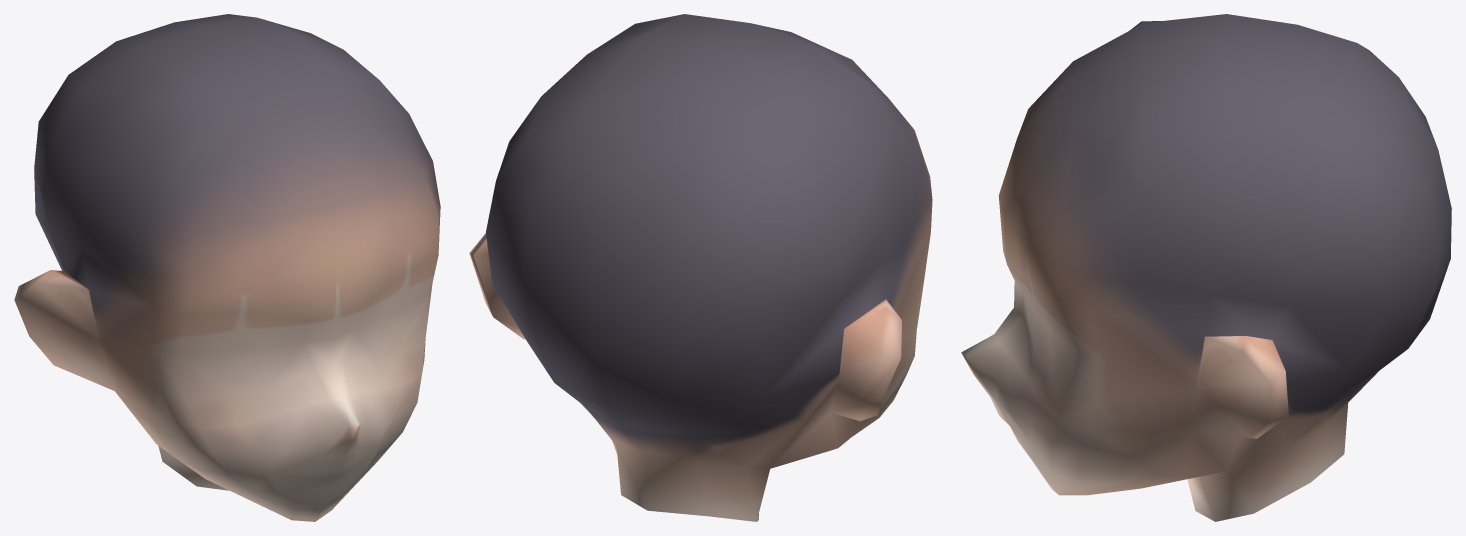
3 renders of one model, left to right at view 1: azimuth 30°, elevation 25°; view 2: azimuth 150°, elevation 25°; view 3: azimuth 270°, elevation 25°, orthographic. The views are drawn at different scales.
Visible parts, largest first — view 1: 頭部_0, 頭部_1; view 2: 頭部_0, 頭部_1; view 3: 頭部_0, 頭部_1.
Boxes of the visible parts, bbox=[...] form: 頭部_0: bbox=[14, 14, 440, 521]; 頭部_1: bbox=[38, 81, 420, 502]; 頭部_0: bbox=[469, 14, 932, 521]; 頭部_1: bbox=[474, 80, 923, 521]; 頭部_0: bbox=[961, 14, 1451, 521]; 頭部_1: bbox=[995, 43, 1398, 513].
Bounding box in the file's own units: 0.2392 × 0.2526 × 0.2392.
